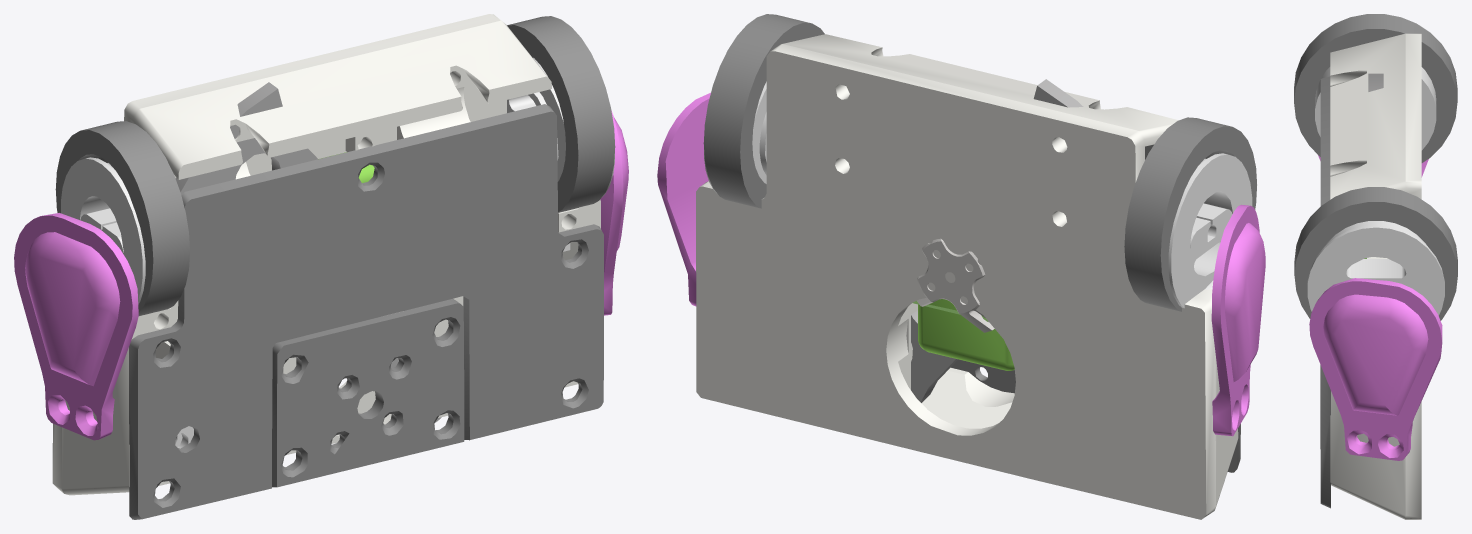
The model's file is tonka-opt.glb.
3 views of the same model, side by side, from view 1: azimuth 30°, elevation 25°; view 2: azimuth 150°, elevation 25°; view 3: azimuth 270°, elevation 25° (orthographic). The views are drawn at different scales.
Parts seen in each view (by area): view 1: Top_plate_primitive0, Chassis_primitive0, Part_23_primitive0, PART_A_primitive0, WEAPONG_primitive0; view 2: Chassis_primitive0, Top_plate_primitive0, Part_23_primitive0, PART_A_primitive0, battery_primitive0, Surface_3_primitive0, WEAPONG_primitive0; view 3: Chassis_primitive0, Top_plate_primitive0, Part_23_primitive0, PART_A_primitive0, WEAPONG_primitive0.
Boxes of the visible parts, x1=… form: Top_plate_primitive0: x1=55, y1=16, x2=615, y2=519; Chassis_primitive0: x1=52, y1=14, x2=600, y2=495; Part_23_primitive0: x1=14, y1=110, x2=628, y2=440; PART_A_primitive0: x1=61, y1=57, x2=614, y2=448; WEAPONG_primitive0: x1=175, y1=82, x2=441, y2=422; Chassis_primitive0: x1=696, y1=34, x2=1238, y2=519; Top_plate_primitive0: x1=703, y1=14, x2=1256, y2=472; Part_23_primitive0: x1=657, y1=92, x2=1265, y2=436; PART_A_primitive0: x1=704, y1=81, x2=1252, y2=308; battery_primitive0: x1=918, y1=299, x2=1014, y2=370; Surface_3_primitive0: x1=917, y1=238, x2=994, y2=332; WEAPONG_primitive0: x1=911, y1=79, x2=1083, y2=402; Chassis_primitive0: x1=1330, y1=33, x2=1421, y2=519; Top_plate_primitive0: x1=1294, y1=14, x2=1457, y2=508; Part_23_primitive0: x1=1309, y1=155, x2=1442, y2=460; PART_A_primitive0: x1=1307, y1=67, x2=1444, y2=315; WEAPONG_primitive0: x1=1368, y1=73, x2=1383, y2=91.
Size of the model in its own units: 3602 by 2299 by 1058.
